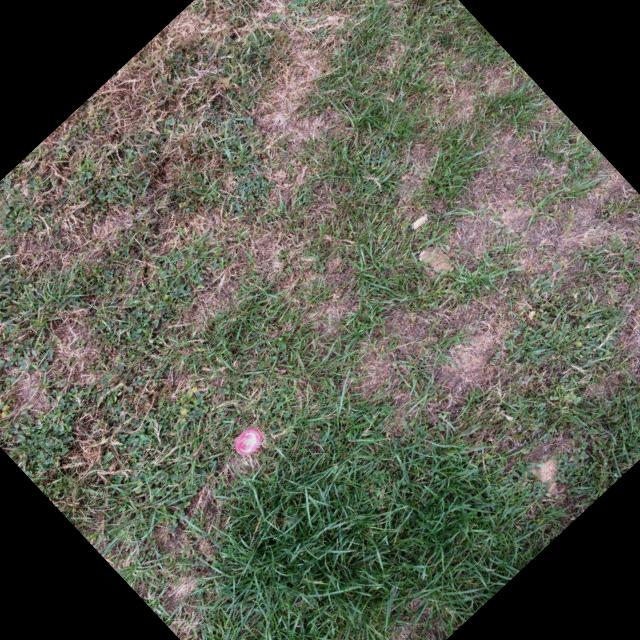Bottle cap: (235, 427, 265, 454)
